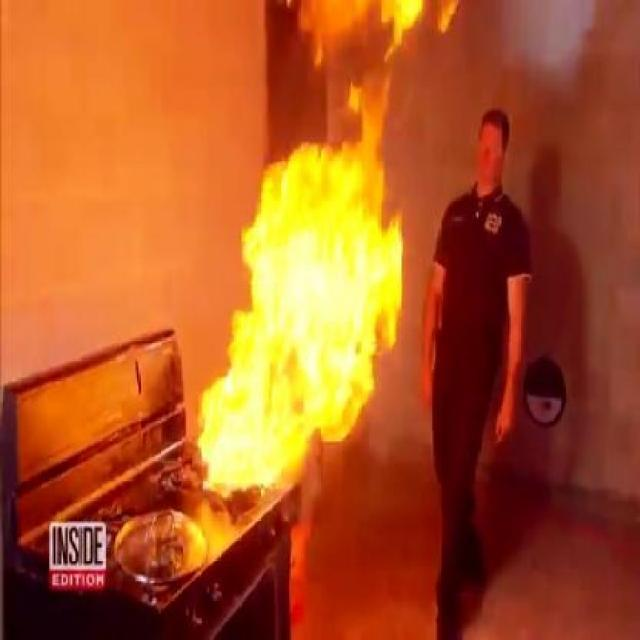fire: (218, 134, 402, 472)
